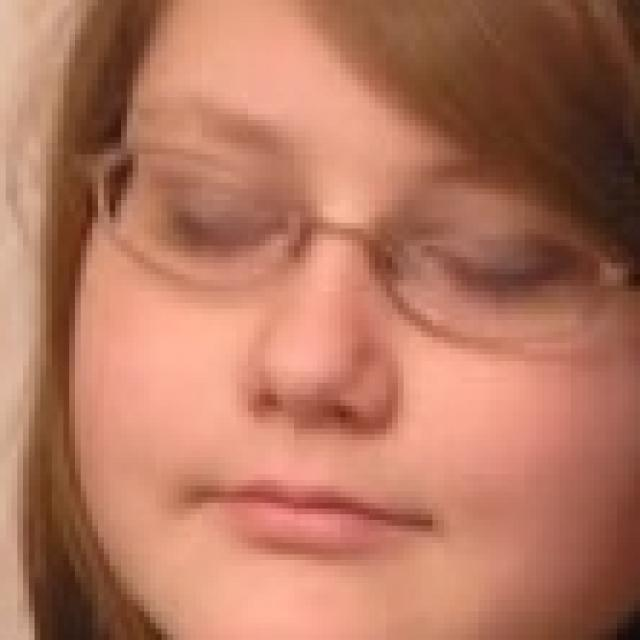Eyeclosed: (426, 224, 560, 305), (157, 190, 281, 260)
